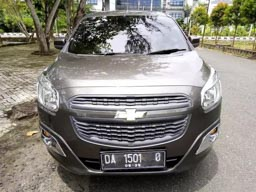plat: (100, 152, 166, 163)
